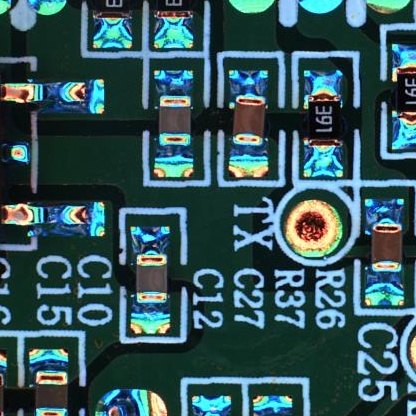spot: (285, 198, 344, 257), (96, 388, 170, 416)
